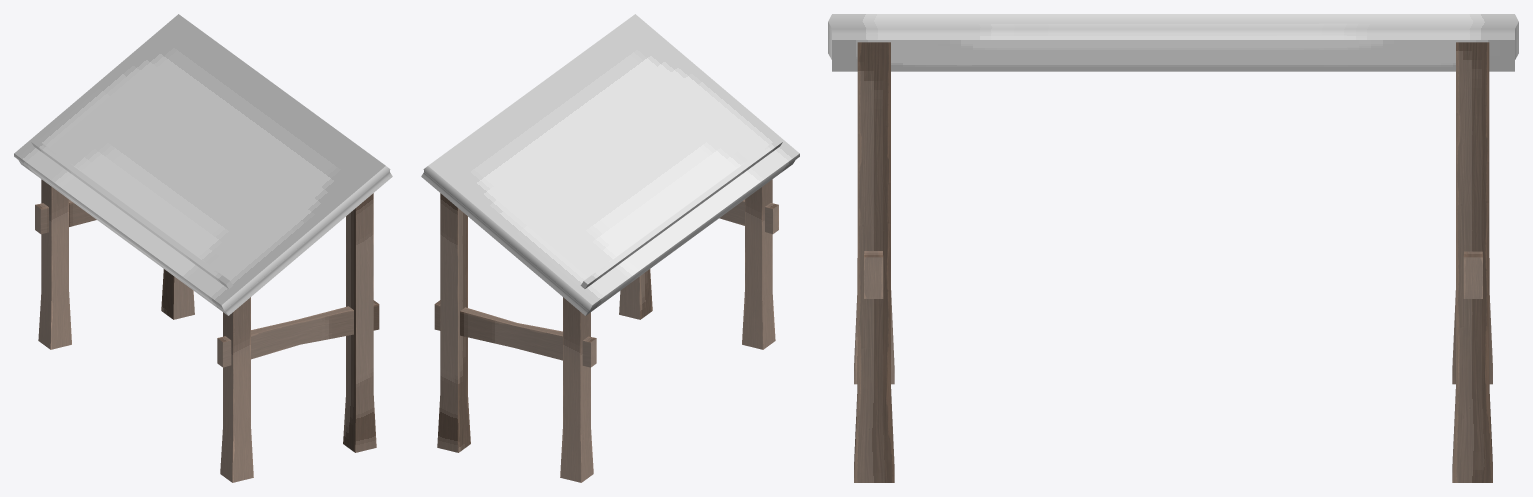
File: SM_LongManuscriptTable.fbx
3 views of the same model, side by side, from view 1: azimuth 30°, elevation 25°; view 2: azimuth 150°, elevation 25°; view 3: azimuth 270°, elevation 25° (orthographic). The views are drawn at different scales.
Parts seen in each view (by area): view 1: SM_LongManuscriptTable_LOD0; view 2: SM_LongManuscriptTable_LOD0; view 3: SM_LongManuscriptTable_LOD0.
Part boxes in pixels (x1,y1,x2,y2): SM_LongManuscriptTable_LOD0: [14, 14, 392, 482]; SM_LongManuscriptTable_LOD0: [421, 14, 799, 482]; SM_LongManuscriptTable_LOD0: [828, 14, 1518, 482].
Bounding box in the file's own units: 70.45 × 149 × 112.
